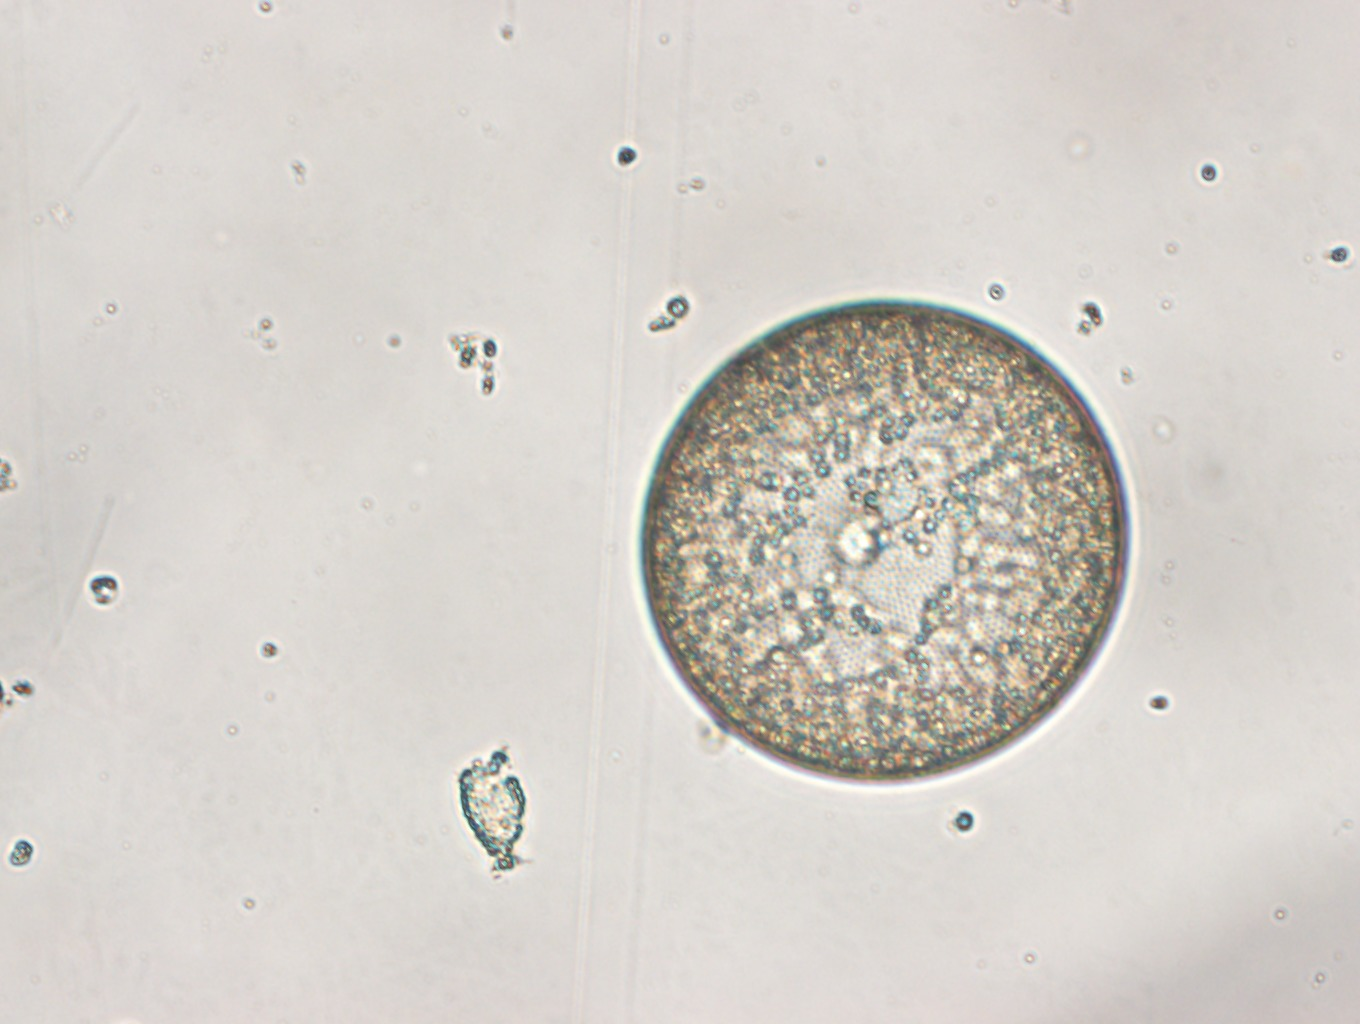coscinodiscus: (633, 288, 1139, 791)
